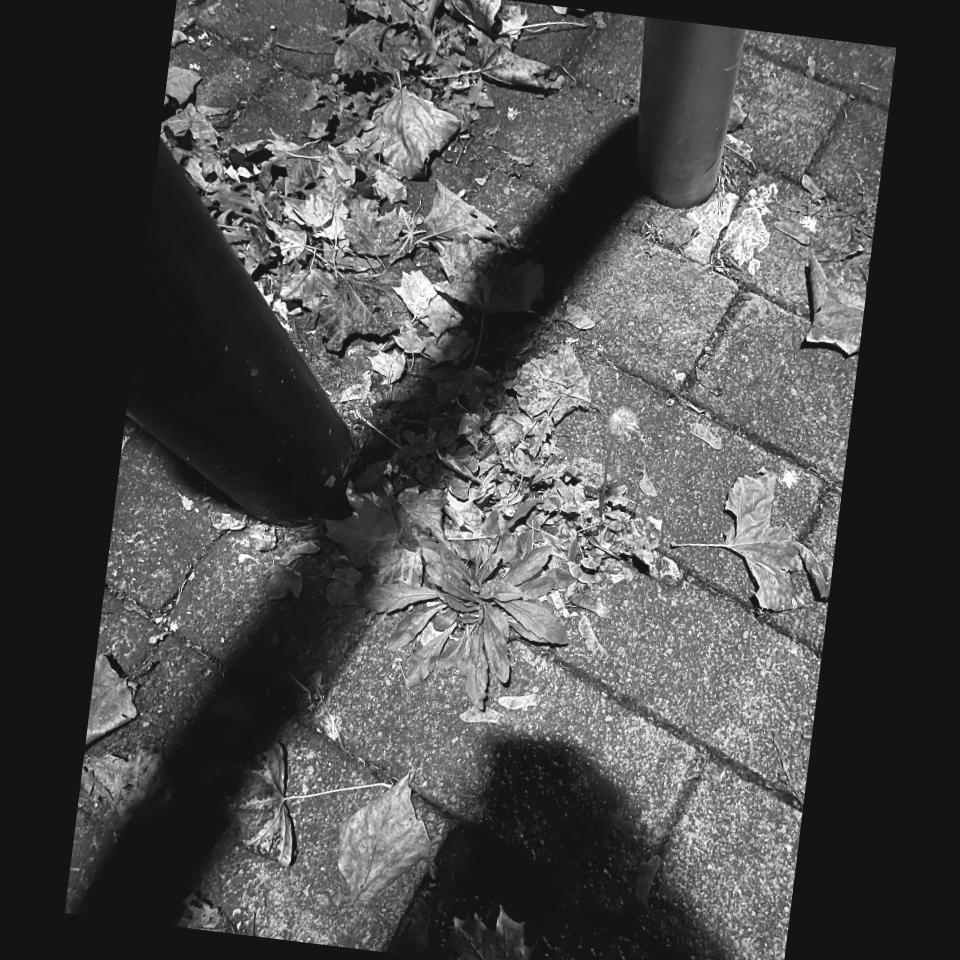weed: (362, 512, 574, 709), (336, 63, 493, 117), (216, 181, 283, 220), (322, 246, 380, 272), (437, 449, 480, 482), (506, 497, 541, 525), (531, 416, 552, 458), (530, 463, 564, 485), (222, 225, 249, 252), (494, 433, 508, 463)
